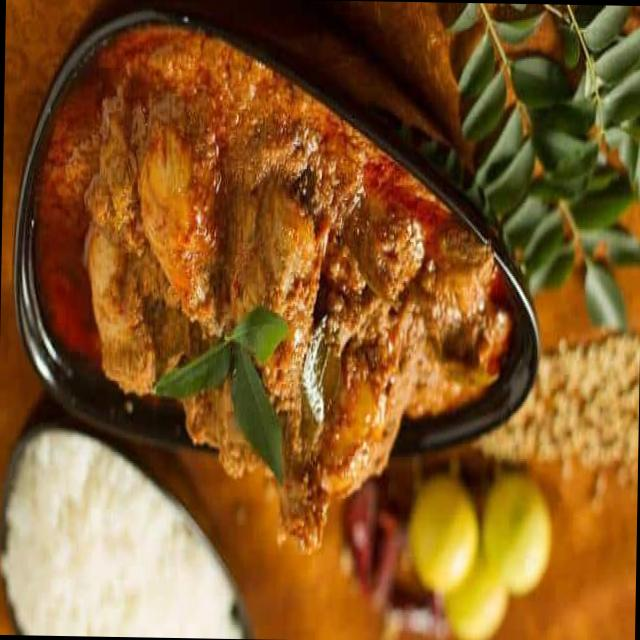chicken: (27, 15, 494, 549)
